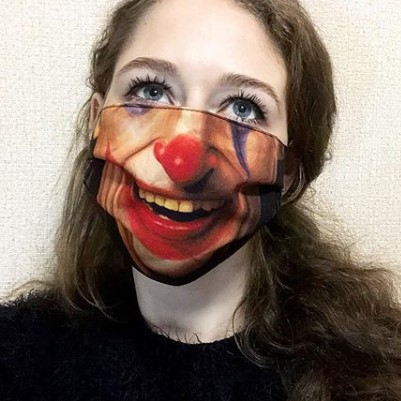face_with_mask: (85, 3, 311, 287)
